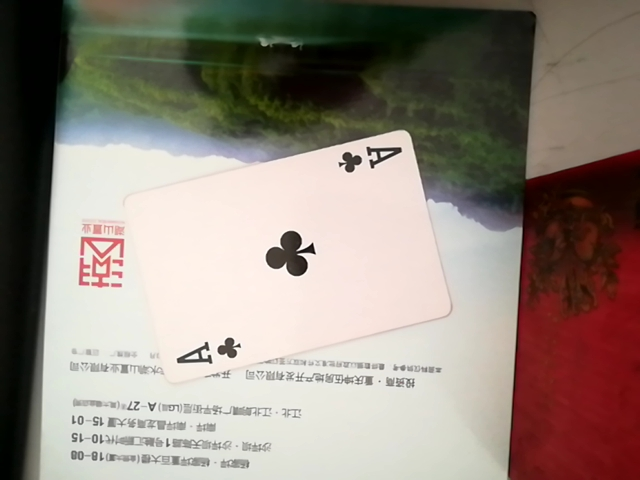mh a: (111, 121, 456, 380)
